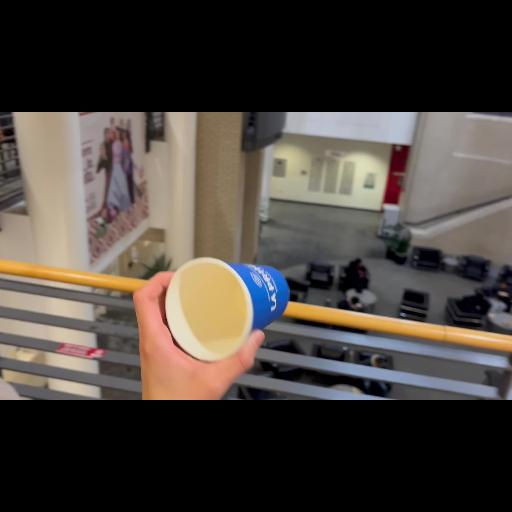lp_paper_cup: (166, 257, 292, 361)
